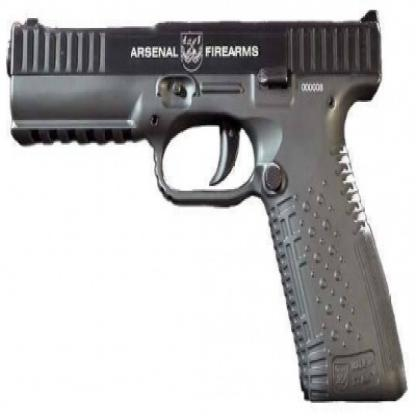Guns: (3, 3, 410, 403)
